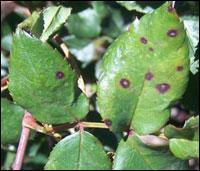black-spot: (118, 32, 172, 96)
